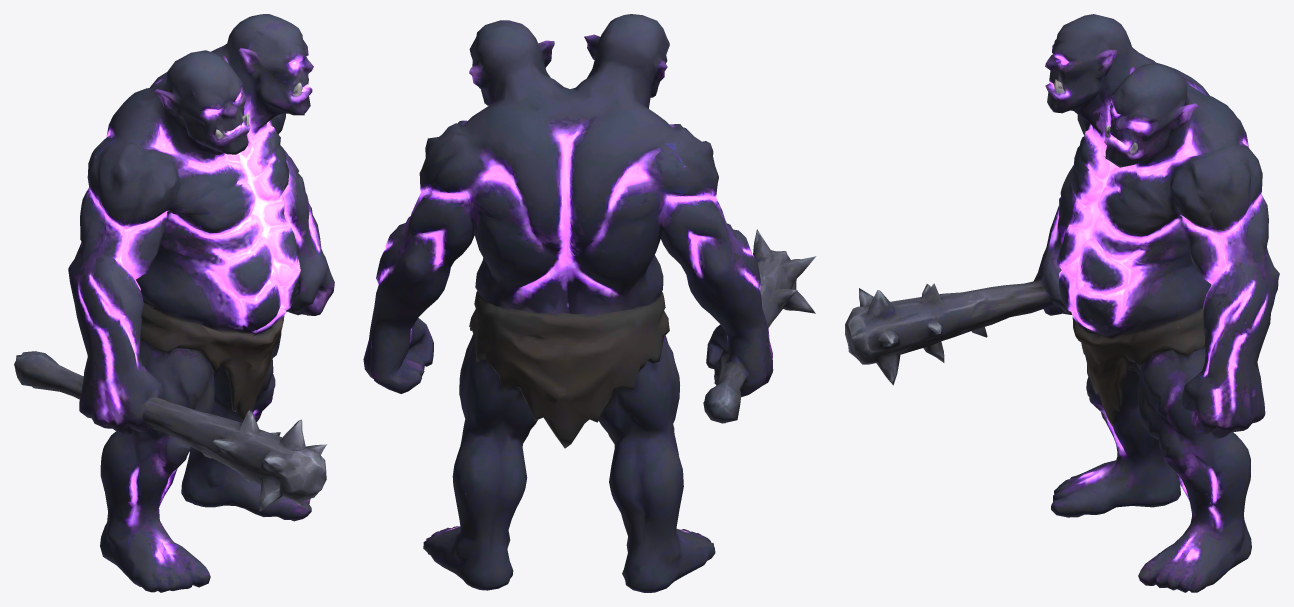
The model's file is source.glb.
3 views of the same model, side by side, from view 1: azimuth 30°, elevation 25°; view 2: azimuth 150°, elevation 25°; view 3: azimuth 270°, elevation 25° (orthographic). The views are drawn at different scales.
Parts seen in each view (by area): view 1: tripo_node_9e9e8d2e-9283-49d8-bdb5-8350eeb0701d; view 2: tripo_node_9e9e8d2e-9283-49d8-bdb5-8350eeb0701d; view 3: tripo_node_9e9e8d2e-9283-49d8-bdb5-8350eeb0701d.
Part boxes in pixels (x1=…): tripo_node_9e9e8d2e-9283-49d8-bdb5-8350eeb0701d: x1=14, y1=14, x2=334, y2=592; tripo_node_9e9e8d2e-9283-49d8-bdb5-8350eeb0701d: x1=363, y1=14, x2=816, y2=592; tripo_node_9e9e8d2e-9283-49d8-bdb5-8350eeb0701d: x1=845, y1=14, x2=1279, y2=592.
Bounding box in the file's own units: 0.7745 × 1.15 × 0.8913.
1 material, 1 textured.
